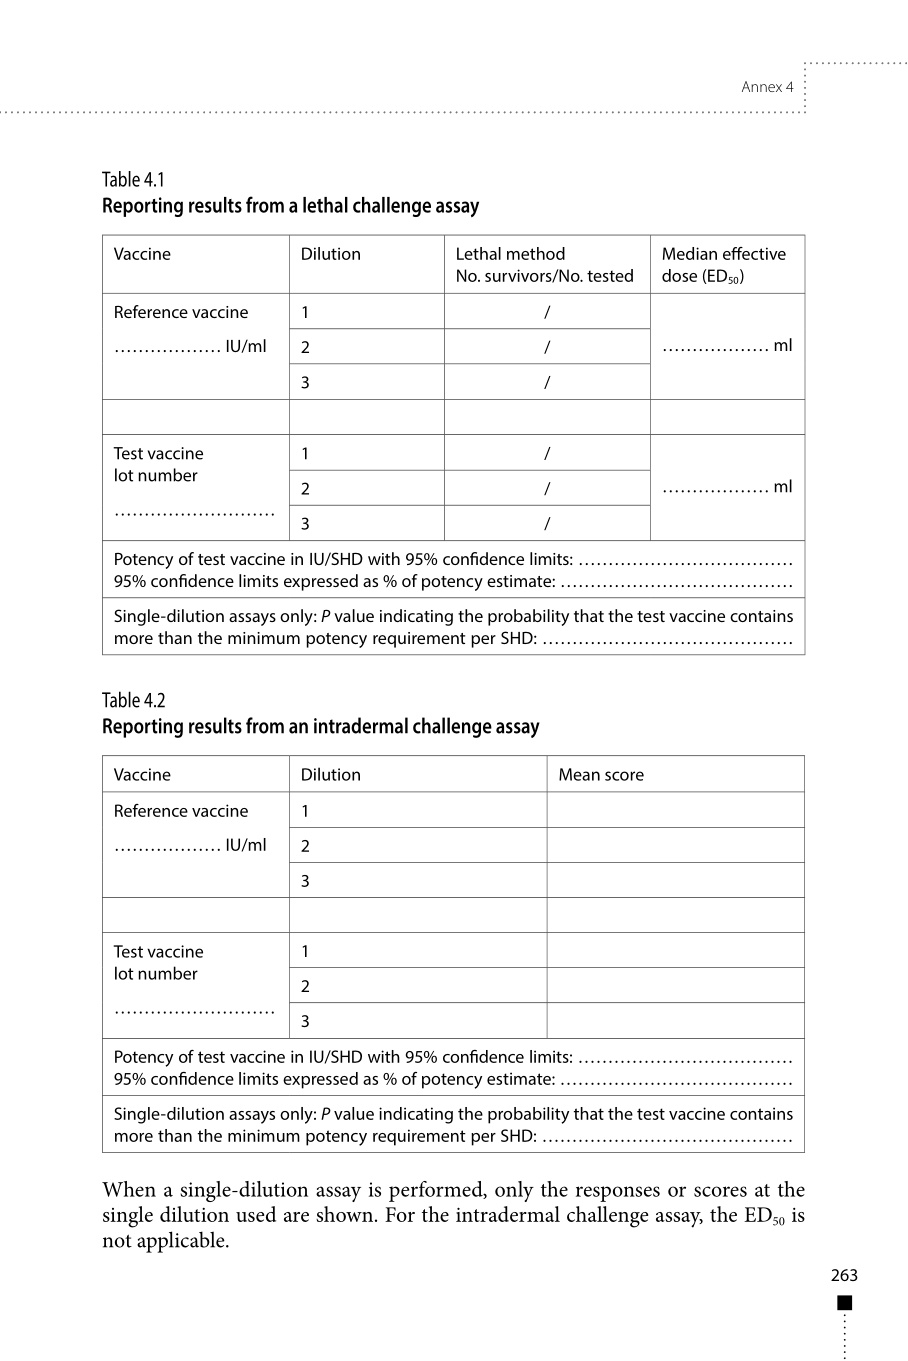merged_cells: (101, 233, 806, 655), (101, 754, 806, 1153)
